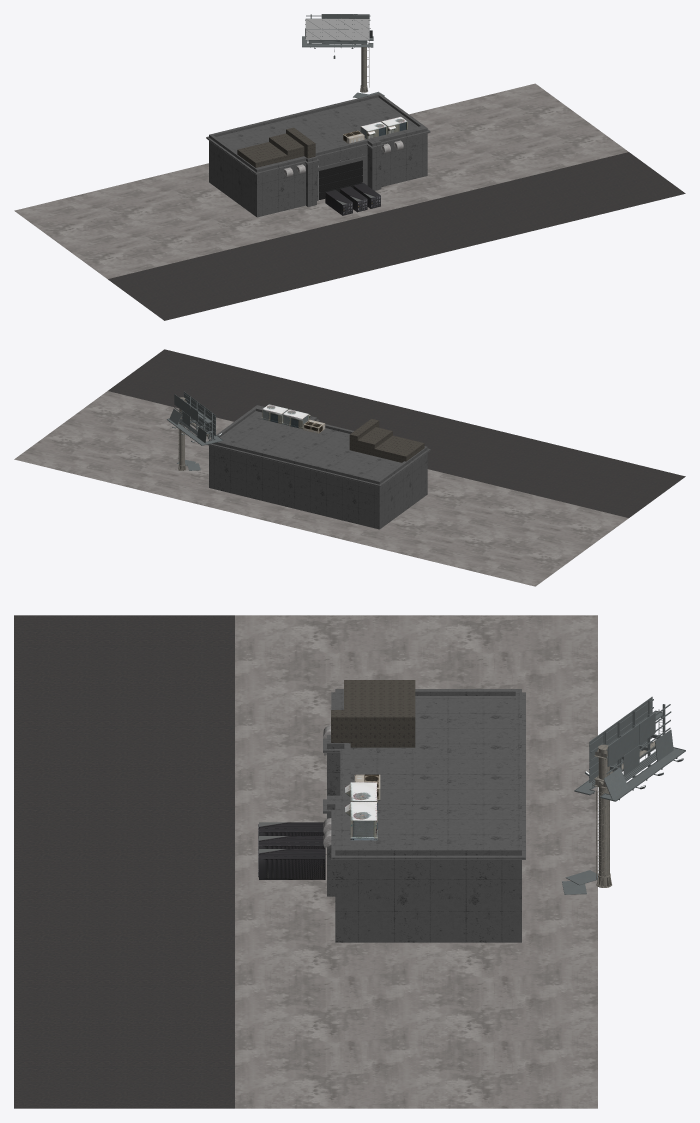
The picture shows the model from 3 angles, top to bottom: view 1: azimuth 30°, elevation 25°; view 2: azimuth 150°, elevation 25°; view 3: azimuth 270°, elevation 25°; orthographic projection. The views are drawn at different scales.
Parts seen in each view (by area): view 1: Plane, Cube, projectsBillboard, Cube.002, Cube.030, Door Panel 1, Cube.163; view 2: Plane, Cube, projectsBillboard, Cube.002, Cube.163; view 3: Plane, Cube, projectsBillboard, Cube.002, Cube.030, Cube.163.
Boxes of the visible parts, x1,y1,x2,y2 form: Plane: (14,83,685,320); Cube: (206,93,430,217); projectsBillboard: (302,14,384,160); Cube.002: (237,127,315,167); Cube.030: (325,183,380,215); Door Panel 1: (318,160,362,199); Cube.163: (360,116,407,139); Plane: (14,349,685,586); Cube: (207,405,430,529); projectsBillboard: (166,391,223,470); Cube.002: (349,418,424,462); Cube.163: (261,404,310,429); Plane: (14,615,597,1108); Cube: (323,689,525,942); projectsBillboard: (562,696,685,894); Cube.002: (331,680,415,747); Cube.030: (258,822,325,879); Cube.163: (345,782,377,840).
Size of the model in its own units: 122 by 24.63 by 70.27.
16 materials, 16 textured.
